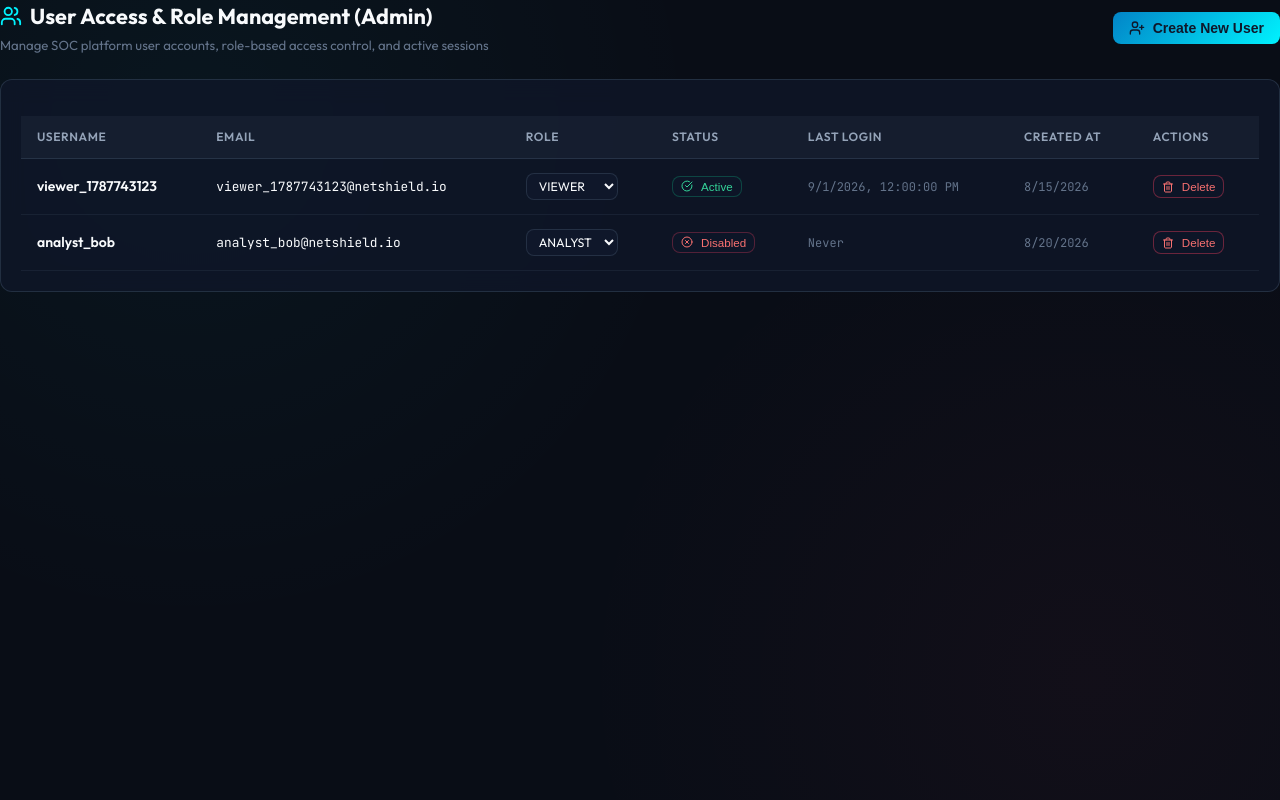
Test: UsersPage Custom Delete Confirmation Modal Suite › 5. Clicking Cancel closes modal without deleting user
The width and height of the screenshot is (1280, 800).
Check: the text "viewer_1787743123" is shown, box x1=21 y1=159 x2=200 y2=215
Click the button with aria-label "Delete user viewer_1787743123" at (1189, 187), box x1=1153 y1=175 x2=1224 y2=198
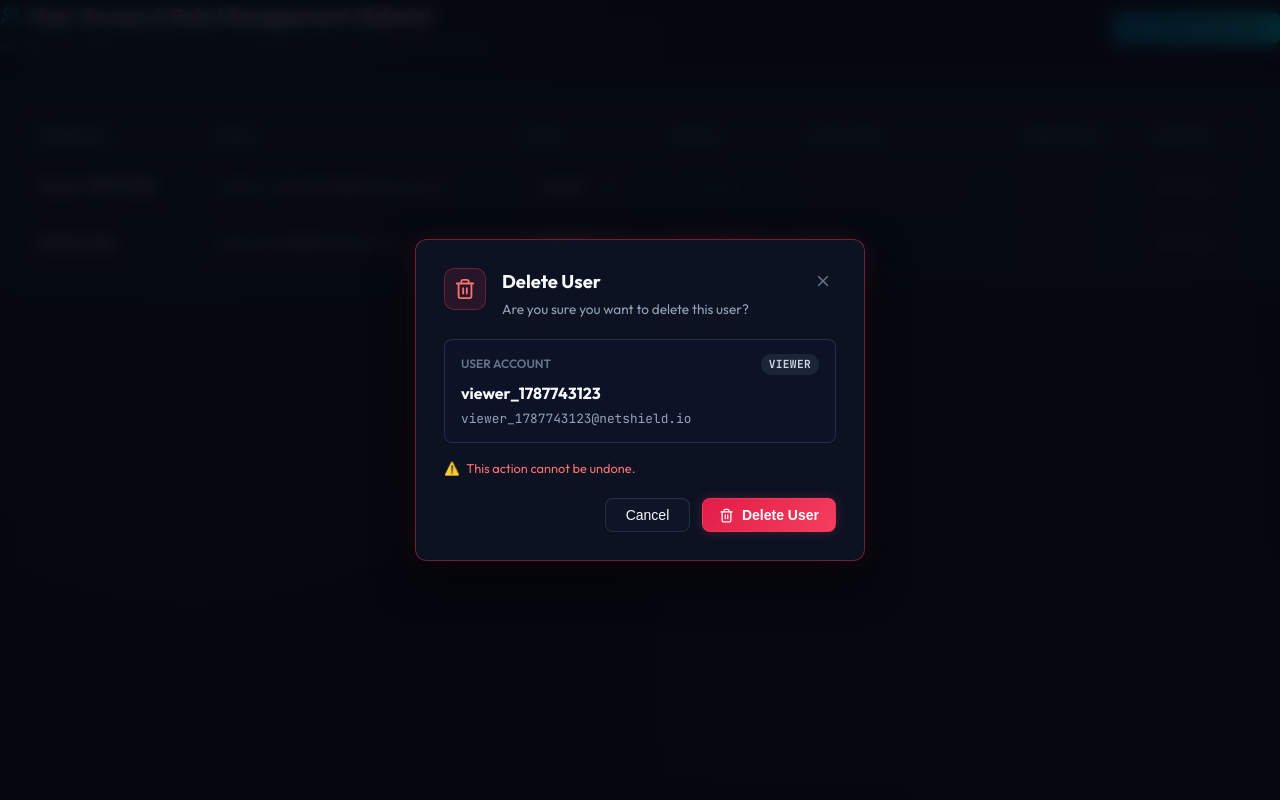
Check: the dialog is shown, box x1=415 y1=239 x2=865 y2=561
Click the button "Cancel" at (648, 515), box x1=605 y1=498 x2=690 y2=532
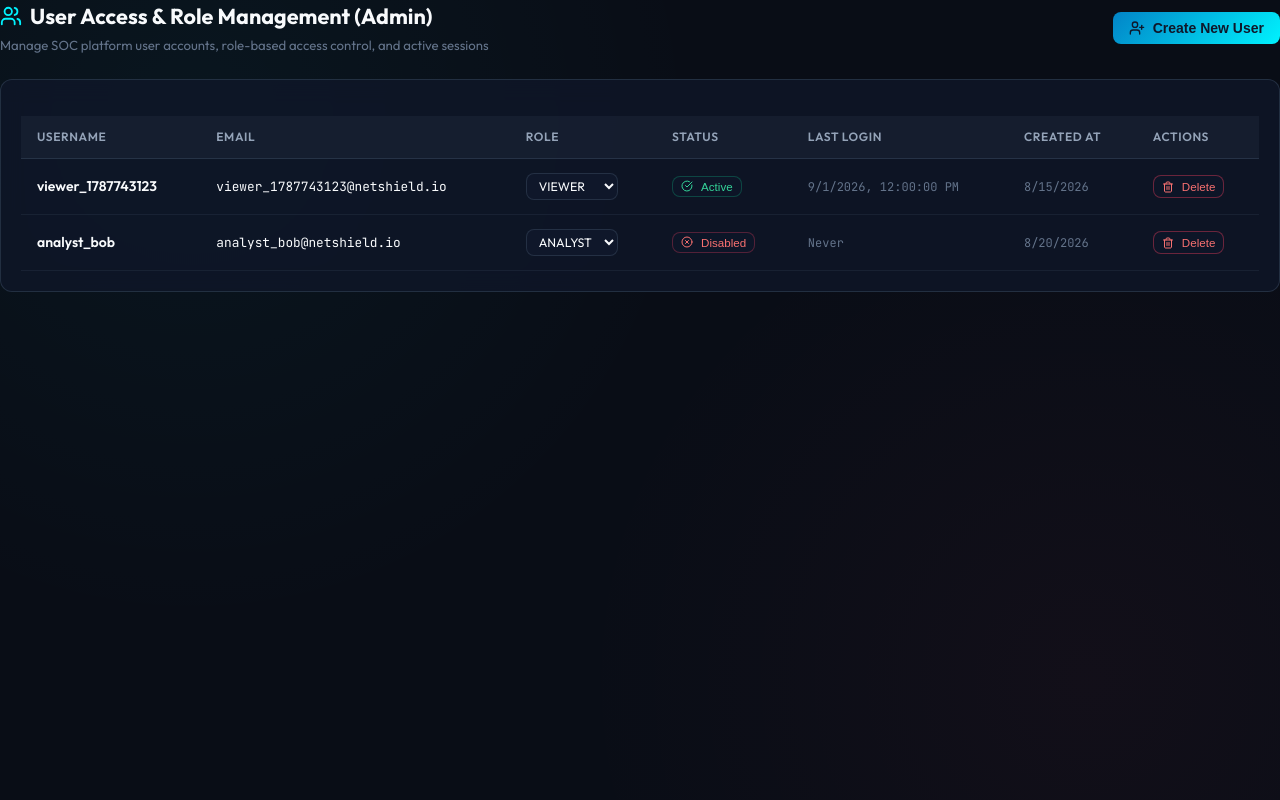
Check: the dialog is gone
